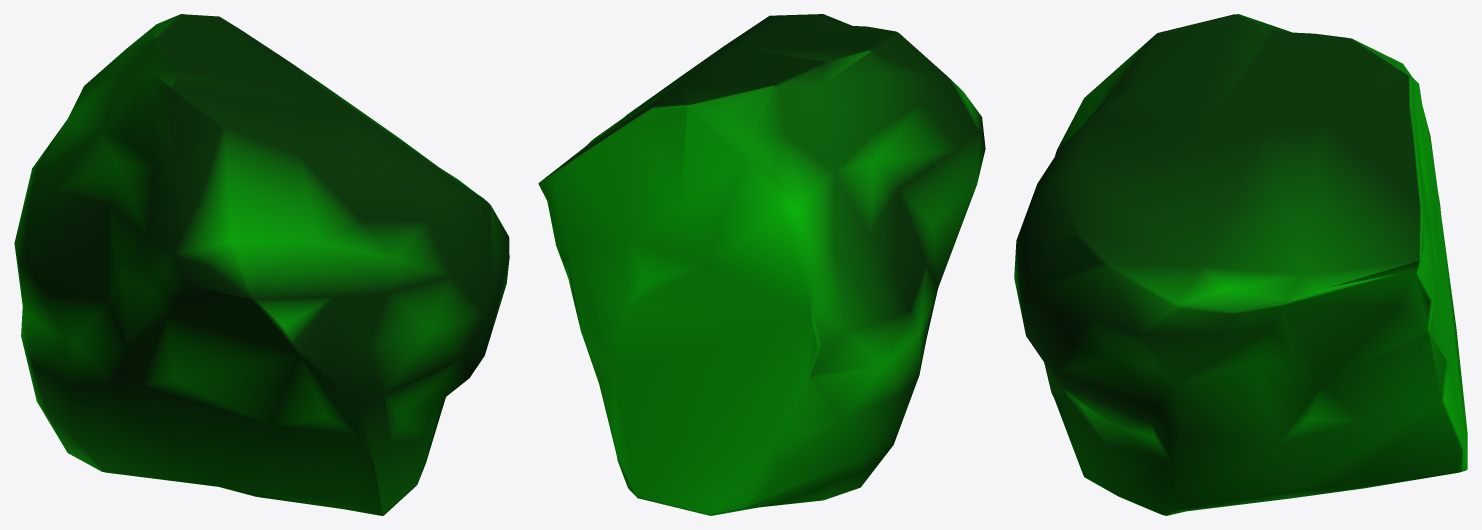
File: boulder-c.glb
3 views of the same model, side by side, from view 1: azimuth 30°, elevation 25°; view 2: azimuth 150°, elevation 25°; view 3: azimuth 270°, elevation 25° (orthographic). The views are drawn at different scales.
Visible parts, largest first — view 1: boulder-c; view 2: boulder-c; view 3: boulder-c.
Boxes of the visible parts, bbox=[...] form: boulder-c: bbox=[14, 14, 509, 515]; boulder-c: bbox=[538, 14, 985, 515]; boulder-c: bbox=[1014, 14, 1467, 515].
Size of the model in its own units: 1.51 by 1.56 by 1.61.
